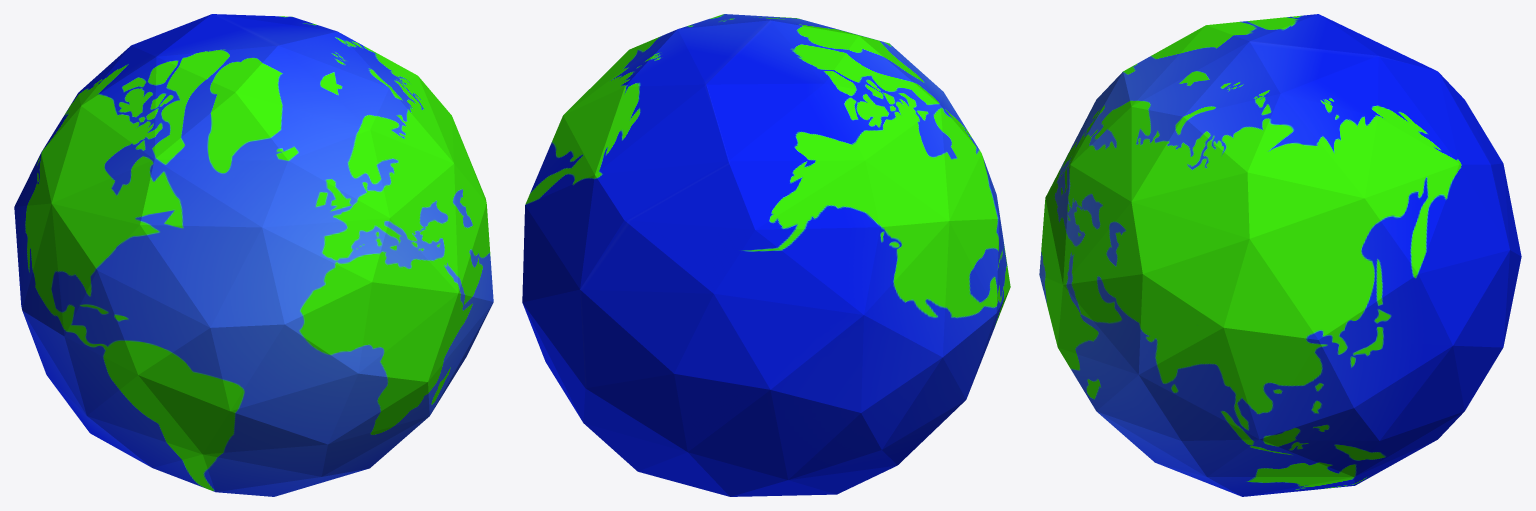
The model's file is EarthDestructible.fbx.
The picture shows the model from 3 angles, left to right: view 1: azimuth 30°, elevation 25°; view 2: azimuth 150°, elevation 25°; view 3: azimuth 270°, elevation 25°; orthographic projection. The views are drawn at different scales.
Parts seen in each view (by area): view 1: Earth Destructible, Earth Destructible.001, Earth Destructible.002, Earth Destructible.005, Earth Destructible.008, Earth Destructible.004, Earth Destructible.006; view 2: Earth Destructible, Earth Destructible.009, Earth Destructible.005, Earth Destructible.001, Earth Destructible.003, Earth Destructible.004, Earth Destructible.007; view 3: Earth Destructible, Earth Destructible.002, Earth Destructible.009, Earth Destructible.007, Earth Destructible.005, Earth Destructible.006.
Boxes of the visible parts, <box> form: Earth Destructible: <box>14,14,493,496</box>; Earth Destructible.001: <box>30,161,256,368</box>; Earth Destructible.002: <box>315,53,490,264</box>; Earth Destructible.005: <box>131,14,277,158</box>; Earth Destructible.008: <box>87,416,320,492</box>; Earth Destructible.004: <box>81,45,156,159</box>; Earth Destructible.006: <box>328,303,492,444</box>; Earth Destructible: <box>522,16,1010,496</box>; Earth Destructible.009: <box>524,146,654,338</box>; Earth Destructible.005: <box>706,20,939,160</box>; Earth Destructible.001: <box>901,153,1008,320</box>; Earth Destructible.003: <box>674,294,863,389</box>; Earth Destructible.004: <box>729,83,939,161</box>; Earth Destructible.007: <box>531,325,699,488</box>; Earth Destructible: <box>1039,25,1521,496</box>; Earth Destructible.002: <box>1099,73,1285,336</box>; Earth Destructible.009: <box>1383,126,1515,307</box>; Earth Destructible.007: <box>1269,378,1484,494</box>; Earth Destructible.005: <box>1206,14,1436,70</box>; Earth Destructible.006: <box>1058,348,1138,410</box>.
Size of the model in its own units: 200 by 200 by 200.
